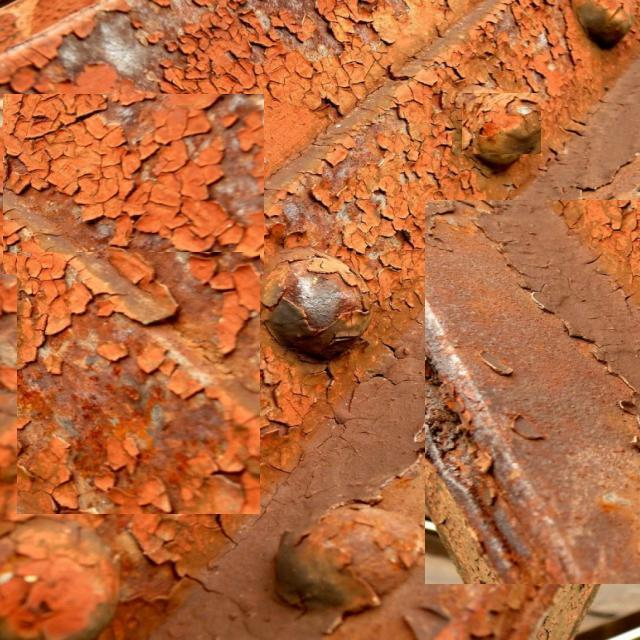Corrosion: (0, 0, 479, 640), (427, 60, 640, 640), (369, 0, 640, 226)
